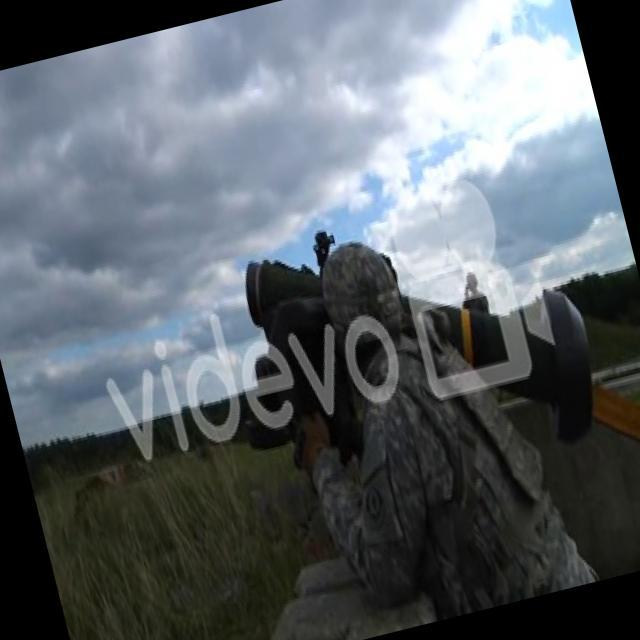rocket: (404, 256, 614, 466)
